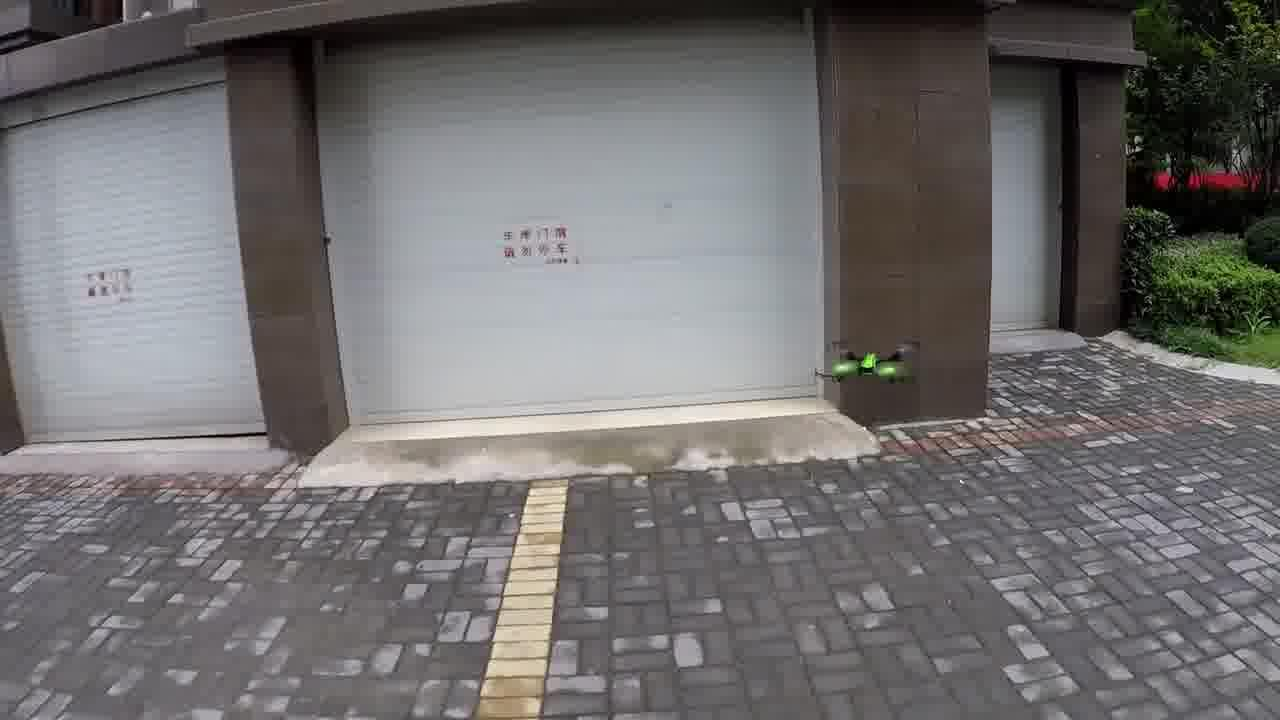drone: (794, 323, 944, 385)
